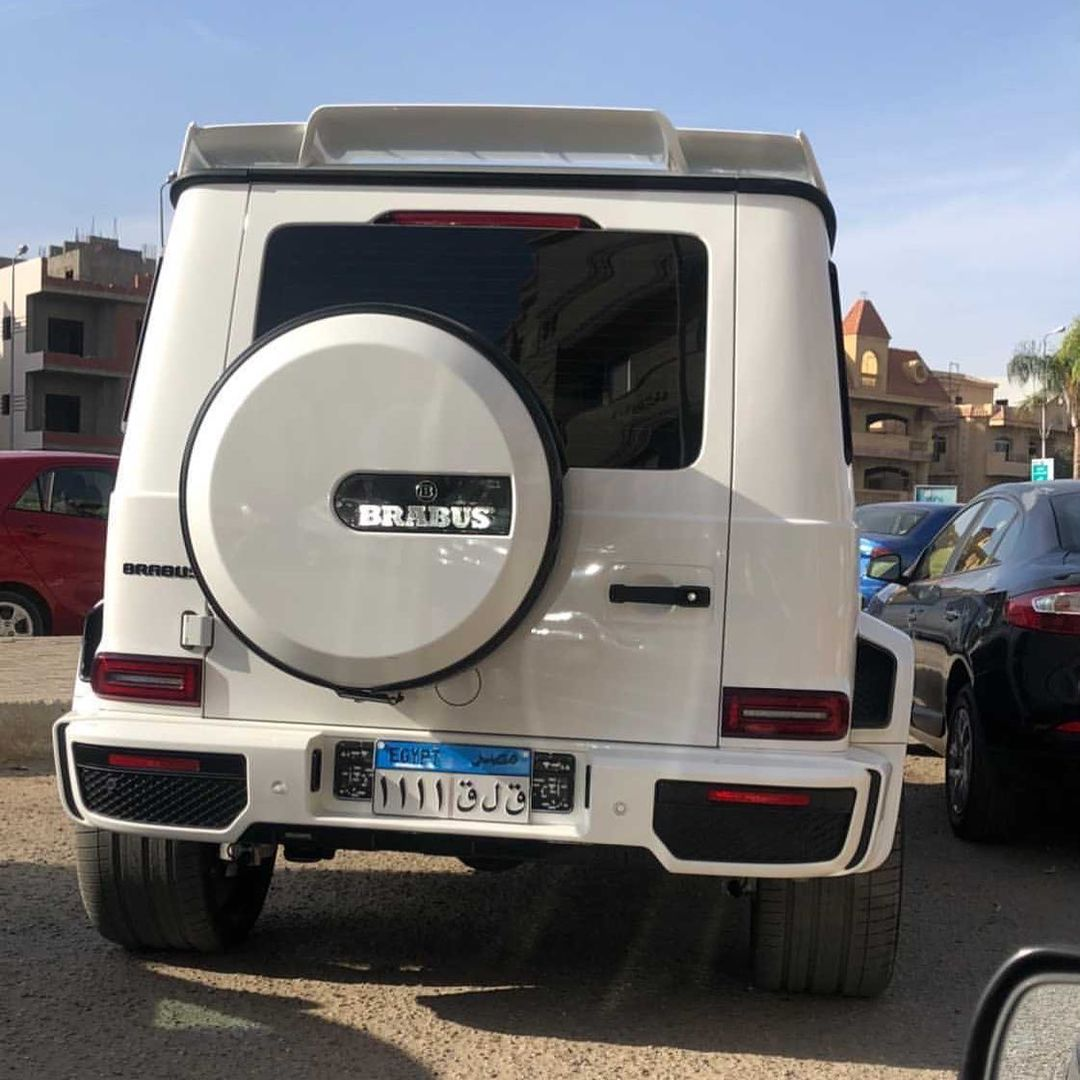carpl: (365, 735, 535, 832)
